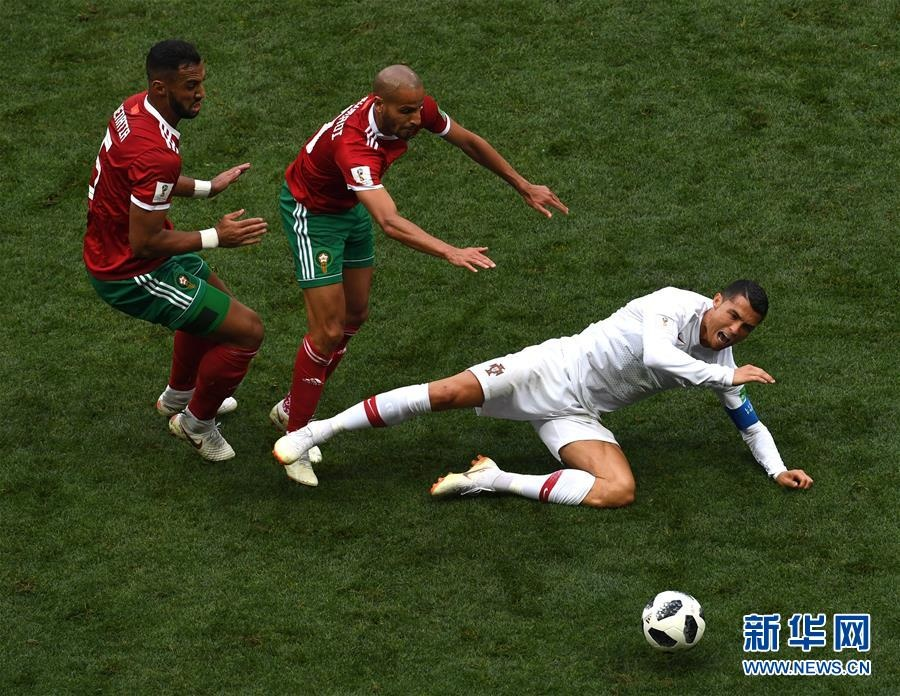falling: (252, 269, 827, 523)
